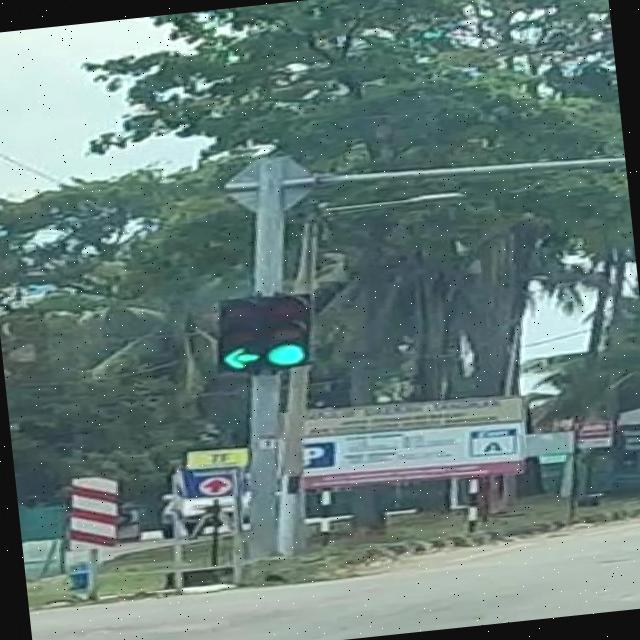green_light: (208, 297, 266, 372), (256, 294, 314, 369)
